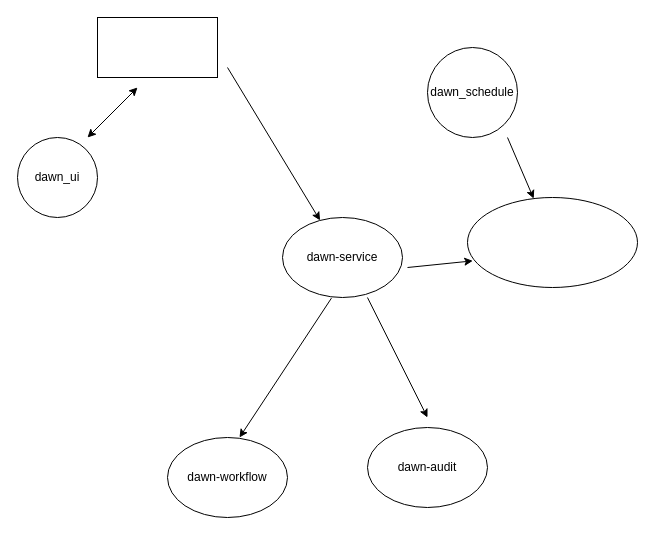
The diagram is 655 pixels wide and 535 high, and some of its shapes have lost their labels. Here are the shapes that lost their labels. From the top down, the centre of each, then its label:
At [157,47]: "Gateway".
At [552,242]: "dawn_external_connectivity".
